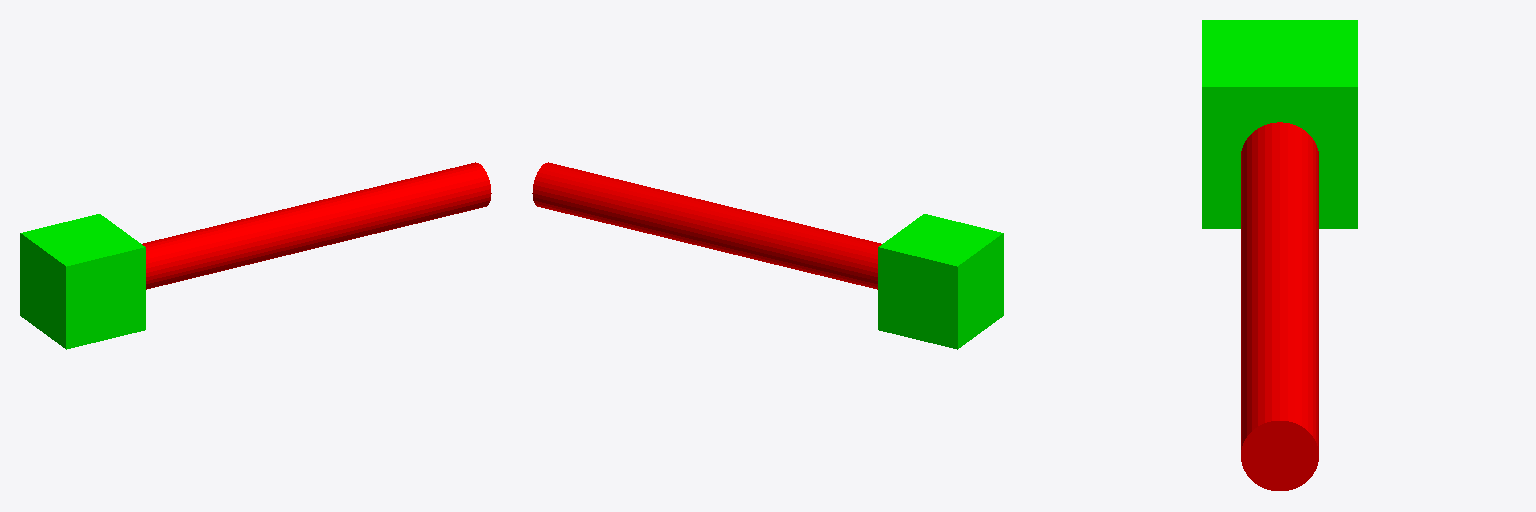
URDF robot description (ball_and_socket_test_2):
<?xml version="1.0"?>

<robot name="ball_and_socket_test_2">

  <link name="base">
    <inertial>
      <mass value="0.266434381824894" />
      <inertia ixx="1" ixy="0" ixz="0" iyy="1" iyz="0" izz="0.083" />
    </inertial>
    <visual>
      <geometry>
         <box size=".2 .2 .2" />
      </geometry>
      <material name="green">
      	<color rgba="0 1 0 1" />
      </material>
    </visual>
  </link>

  <link name="wing">
    <inertial>
      <origin xyz=".5 0 0" rpy="0 0 0" />
      <mass value="0.020072361" />
      <inertia ixx="0.01004872572" ixy="0" ixz="0" iyy="0.01004872572" iyz="0" izz="0.00002509045" />
    </inertial>
    <visual>
      <origin xyz=".5 0 0" rpy="0 1.5708 0" />
      <geometry>
         <cylinder length="1" radius=".05" />
      </geometry>
      <material name="red">
	      <color rgba="1 0 0 1" />
      </material>
    </visual>
  </link>

  <joint name="shoulder_z" type="continuous">
    <parent link="base" />
    <child link="wing" />
    <origin xyz="0 0 0" />
    <axis xyz="0 1 0" />
    <dynamics damping="0.0005" />
  </joint>

</robot>

--- Facts derived from the render (not from the file) ---
Views: 3 orthographic renders of the robot side by side, from view 1: azimuth 30°, elevation 25°; view 2: azimuth 150°, elevation 25°; view 3: azimuth 270°, elevation 25°.
Model ball_and_socket_test_2 with 2 links and 1 joints (1 continuous), rooted at base, posed every joint at zero.
Links seen in each view (by area): view 1: wing, base; view 2: wing, base; view 3: wing, base.
Boxes of the visible links, x1,y1,x2,y2 form: wing: (142,162,491,289); base: (20,214,145,349); wing: (532,162,881,289); base: (878,214,1003,349); wing: (1241,122,1318,490); base: (1202,20,1357,228).
Bounding box of the posed robot: 1.1 × 0.2 × 0.2 m (x, y, z).
Geometry: primitives only (box / cylinder / sphere), no mesh files.